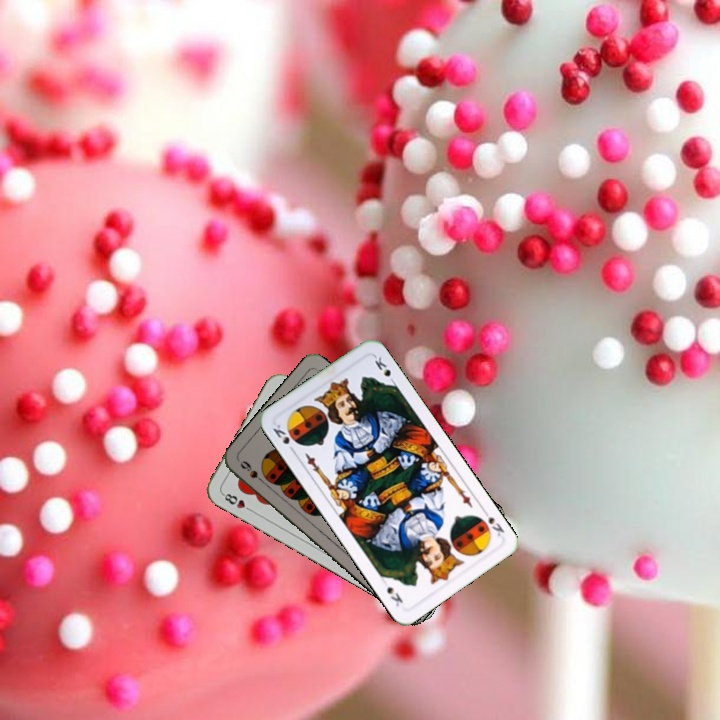H8: (218, 489, 256, 514)
S9: (236, 456, 270, 488)
SK: (269, 420, 300, 456), (478, 505, 507, 539)
